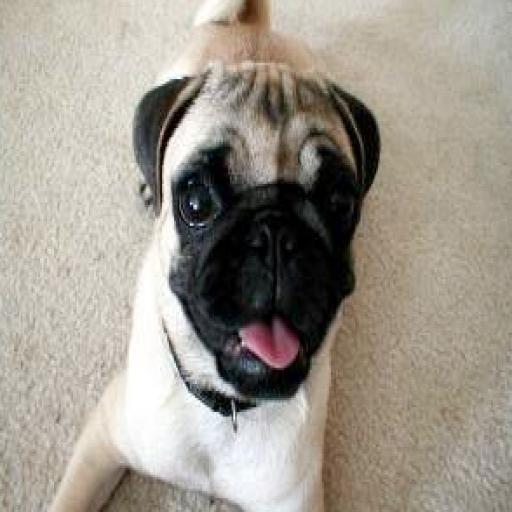dog_face: (133, 60, 382, 394)
